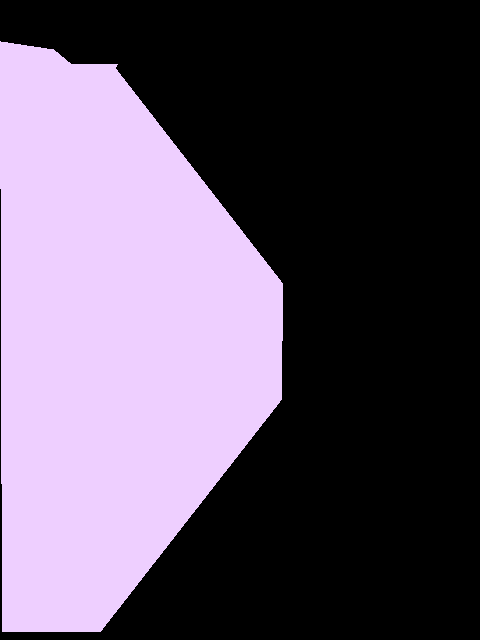Train: (0, 41, 282, 632)
